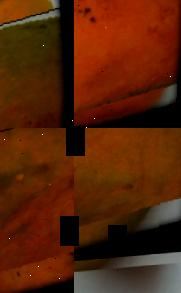PartiallyRipe: (74, 128, 181, 259), (0, 0, 74, 128)
Ripe: (74, 0, 181, 128), (0, 128, 74, 293)
